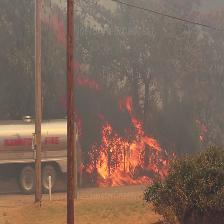fire: (83, 104, 214, 195), (48, 12, 107, 110)
